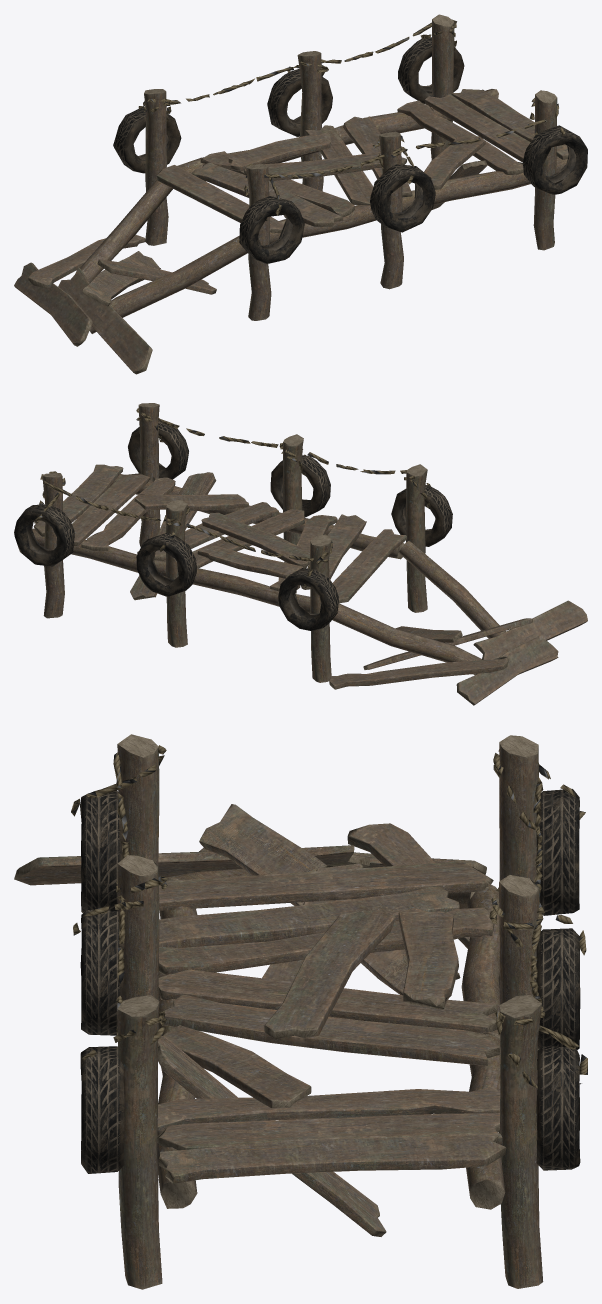
The model's file is SM_WoodDeck_Merged.fbx.
The picture shows the model from 3 angles, top to bottom: view 1: azimuth 30°, elevation 25°; view 2: azimuth 150°, elevation 25°; view 3: azimuth 270°, elevation 25°; orthographic projection. The views are drawn at different scales.
Parts seen in each view (by area): view 1: SM_WoodDeck_Merged_LOD0; view 2: SM_WoodDeck_Merged_LOD0; view 3: SM_WoodDeck_Merged_LOD0.
Boxes of the visible parts, left/top/right/bottom form: SM_WoodDeck_Merged_LOD0: left=14, top=14, right=587, bottom=374; SM_WoodDeck_Merged_LOD0: left=14, top=403, right=587, bottom=705; SM_WoodDeck_Merged_LOD0: left=14, top=734, right=587, bottom=1289.
Size of the model in its own units: 612 by 327 by 179.
3 materials, 3 textured.
